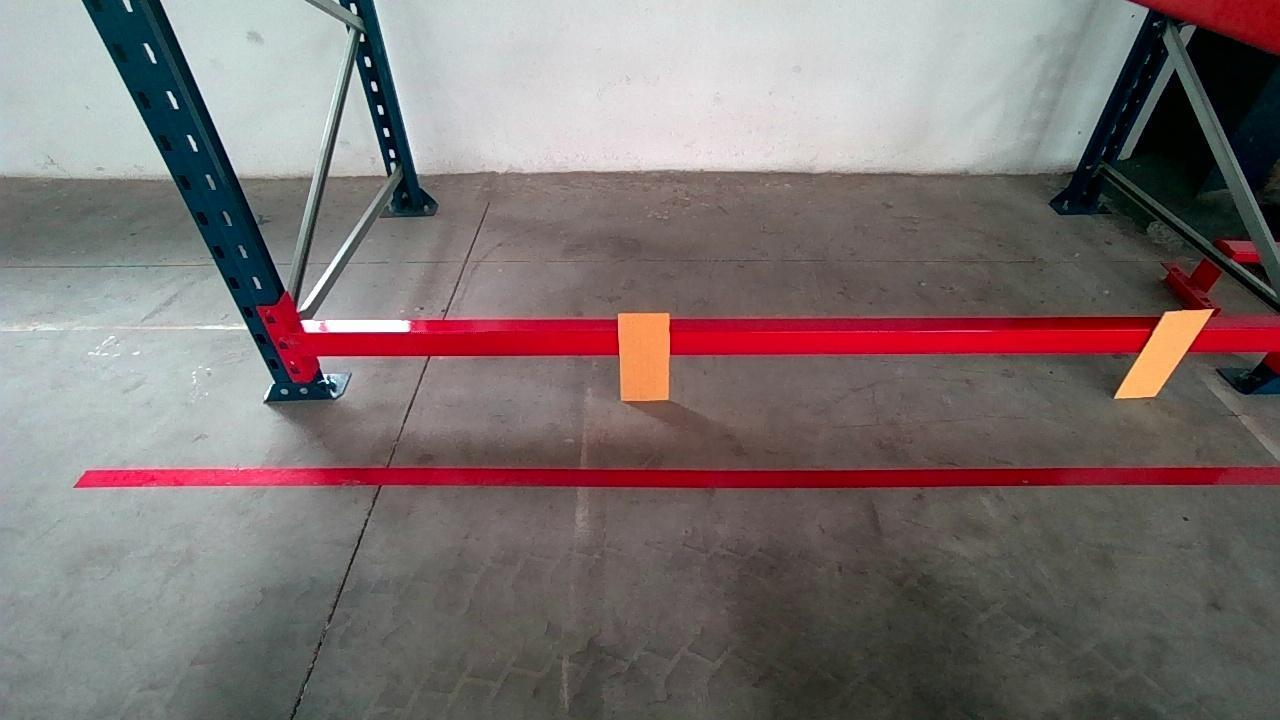h_rack: (301, 327, 1280, 355)
orange_strip: (1116, 309, 1212, 397), (619, 311, 671, 400)
red_line: (77, 466, 1280, 485)
